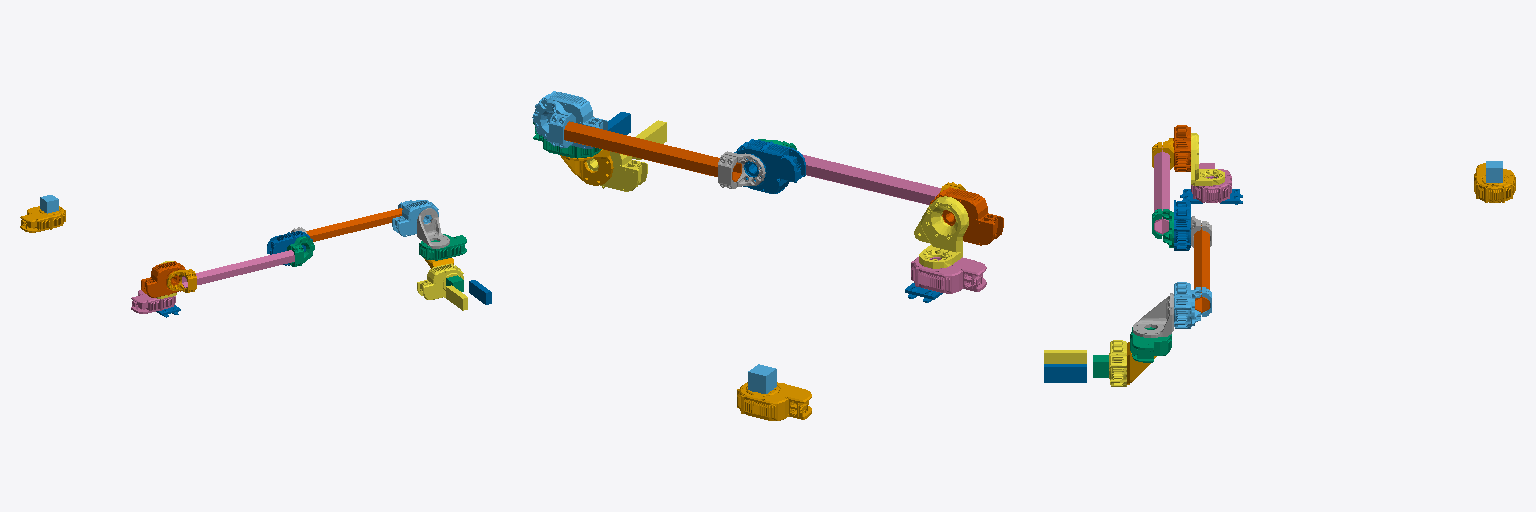
--- Render facts (derived) ---
Views: 3 orthographic renders of the robot side by side, from view 1: azimuth 30°, elevation 25°; view 2: azimuth 150°, elevation 25°; view 3: azimuth 270°, elevation 25°.
Model HEBI_6_DOF_Arm_1 with 23 links and 22 joints (9 revolute, 13 fixed), rooted at world, posed every joint at zero.
Visible links, largest first — view 1: tubepar_3Z, tubepar_2Z, hebi_x5_9_16Z, hebi_x5_1_9Z, hebi_x5_1_8Z, hebi_x9_spool, pm-2132-01_5Z, hebi_x5_1_10Z, hebi_x5_9_15Z, hebi_x5_4_14Z; view 2: tubepar_2Z, a_2040_01r_12Z, tubepar_3Z, hebi_x5_4_14Z, hebi_x9_spool, hebi_x5_9_15Z, hebi_x5_9_16Z, hebi_x5_1_9Z, a_2039_02_1Z, hebi_x5_1_8Z, a_2038_02_11Z, pm-2132-01_4Z (+2 smaller); view 3: pm-2132-01_5Z, tubepar_2Z, tubepar_3Z, hebi_x9_spool, hebi_x5_1_10Z, hebi_x5_9_15Z, hebi_x5_4_14Z, right_finger, hebi_x5_1_9Z, a_2040_01r_12Z, hebi_x5_9_16Z, hebi_x5_1_8Z (+1 smaller).
Link boxes in pixels (x1,y1,x2,y2): tubepar_3Z: [182, 250, 294, 287]; tubepar_2Z: [306, 208, 402, 241]; hebi_x5_9_16Z: [141, 261, 185, 297]; hebi_x5_1_9Z: [417, 263, 463, 299]; hebi_x5_1_8Z: [392, 200, 438, 236]; hebi_x9_spool: [20, 206, 65, 232]; pm-2132-01_5Z: [417, 208, 449, 248]; hebi_x5_1_10Z: [419, 234, 466, 260]; hebi_x5_9_15Z: [131, 290, 175, 313]; hebi_x5_4_14Z: [267, 231, 312, 265]; tubepar_2Z: [564, 121, 741, 181]; a_2040_01r_12Z: [914, 196, 968, 268]; tubepar_3Z: [802, 154, 940, 204]; hebi_x5_4_14Z: [734, 139, 805, 193]; hebi_x9_spool: [737, 382, 811, 420]; hebi_x5_9_15Z: [911, 257, 986, 293]; hebi_x5_9_16Z: [930, 187, 1003, 245]; hebi_x5_1_9Z: [586, 151, 647, 191]; a_2039_02_1Z: [532, 100, 575, 148]; hebi_x5_1_8Z: [535, 91, 607, 148]; a_2038_02_11Z: [718, 151, 765, 188]; pm-2132-01_4Z: [560, 149, 613, 185]; pm-2132-01_5Z: [1133, 293, 1173, 337]; tubepar_2Z: [1194, 225, 1209, 312]; tubepar_3Z: [1154, 147, 1169, 234]; hebi_x9_spool: [1474, 163, 1515, 202]; hebi_x5_1_10Z: [1130, 327, 1171, 362]; hebi_x5_9_15Z: [1191, 163, 1231, 202]; hebi_x5_4_14Z: [1174, 200, 1190, 250]; right_finger: [1044, 364, 1086, 382]; hebi_x5_1_9Z: [1109, 340, 1126, 386]; a_2040_01r_12Z: [1191, 133, 1224, 185]; hebi_x5_9_16Z: [1173, 125, 1190, 171]; hebi_x5_1_8Z: [1174, 282, 1190, 328].
Bounding box of the posed robot: 0.8013 × 0.832 × 0.186 m (x, y, z).
17 mesh visuals loaded from 16 distinct referenced files (16 binary STL).

robot.urdf — HEBI_6_DOF_Arm_1:
<?xml version="1.0" ?>
<robot name="HEBI_6_DOF_Arm_1">
  <!--Joints-->
  <joint name="world_to_base_link" type="fixed">
    <parent link="world"/>
    <child link="base_link"/>
  </joint>
  <joint name="base_link_to_a_2043_01_13Z" type="fixed">
    <parent link="base_link"/>
    <child link="a_2043_01_13Z"/>
  </joint>
  <joint name="a_2043_01_13Z_to_hebi_x5_9_15Z" type="fixed">
    <parent link="a_2043_01_13Z"/>
    <child link="hebi_x5_9_15Z"/>
    <origin rpy="0.0 0.0 0.0" xyz="8.71763536758e-24 1.61232339957e-23 1e-23"/>
  </joint>
  <joint name="ARM/Base/X5_9" type="revolute">
    <parent link="hebi_x5_9_15Z"/>
    <child link="a_2040_01r_12Z"/>
    <axis xyz="-2.77554010017e-17 -1.73472348e-16 1.0"/>
    <dynamics damping="0.5" friction="0.06"/>
    <limit effort="100" lower="-2" upper="+2" velocity="100"/>
    <origin rpy="0.0 -3.34767643574e-17 -3.14159265359" xyz="-5.55318730462e-17 -2.96636102637e-18 0.03"/>
  </joint>
  <gazebo reference="ARM/Base/X5_9">
    <implicitSpringDamper>True</implicitSpringDamper>
  </gazebo>
  <joint name="a_2040_01r_12Z_to_hebi_x5_9_16Z" type="fixed">
    <parent link="a_2040_01r_12Z"/>
    <child link="hebi_x5_9_16Z"/>
    <origin rpy="1.57079632679 -0.0 -3.14159265359" xyz="-5.38184507892e-17 0.03750000003 0.055"/>
  </joint>
  <joint name="ARM/Shoulder/X5_9" type="revolute">
    <parent link="hebi_x5_9_16Z"/>
    <child link="a_2038_02_6Z"/>
    <axis xyz="-2.77554010017e-17 -1.66533454e-16 1.0"/>
    <dynamics damping="0.5" friction="0.06"/>
    <limit effort="100" lower="0" upper="+1.1" velocity="100"/>
    <origin rpy="0.0 -2.77555756e-17 0.0" xyz="-5.63687556453e-17 2.34257058104e-17 0.03"/>
  </joint>
  <gazebo reference="ARM/Shoulder/X5_9">
    <implicitSpringDamper>True</implicitSpringDamper>
  </gazebo>
  <joint name="a_2038_02_6Z_to_tubepar_3Z" type="fixed">
    <parent link="a_2038_02_6Z"/>
    <child link="tubepar_3Z"/>
    <origin rpy="1.57079632679 -1.57079632679 0.0" xyz="0.0135 1.5578633904e-18 0.02"/>
  </joint>
  <joint name="tubepar_3Z_to_a_2039_02_7Z" type="fixed">
    <parent link="tubepar_3Z"/>
    <child link="a_2039_02_7Z"/>
    <origin rpy="1.57079632679 2.50240867501e-14 -1.57079632679" xyz="-1.04532313799e-18 -0.3 -3.11352413402e-18"/>
  </joint>
  <joint name="a_2039_02_7Z_to_hebi_x5_4_14Z" type="fixed">
    <parent link="a_2039_02_7Z"/>
    <child link="hebi_x5_4_14Z"/>
    <origin rpy="1.22464679915e-16 1.04083409e-17 2.50240867501e-14" xyz="0.014 3.32344199835e-16 0.02"/>
  </joint>
  <joint name="ARM/Elbow/X5_4" type="revolute">
    <parent link="hebi_x5_4_14Z"/>
    <child link="a_2038_02_11Z"/>
    <axis xyz="3.34767643574e-17 -1.5959456e-16 1.0"/>
    <dynamics damping="0.5" friction="0.06"/>
    <limit effort="100" lower="-2.5" upper="+2.5" velocity="100"/>
    <origin rpy="0.0 -2.77555756e-17 -1.23259516441e-32" xyz="-5.58391159301e-17 -4.7878368e-18 0.03"/>
  </joint>
  <gazebo reference="ARM/Elbow/X5_4">
    <implicitSpringDamper>True</implicitSpringDamper>
  </gazebo>
  <joint name="a_2038_02_11Z_to_tubepar_2Z" type="fixed">
    <parent link="a_2038_02_11Z"/>
    <child link="tubepar_2Z"/>
    <origin rpy="1.57079632679 -1.57079632679 0.0" xyz="0.0135 -1.1415297504e-18 0.02"/>
  </joint>
  <joint name="tubepar_2Z_to_a_2039_02_1Z" type="fixed">
    <parent link="tubepar_2Z"/>
    <child link="a_2039_02_1Z"/>
    <origin rpy="1.57079632679 2.50240867501e-14 -1.57079632679" xyz="2.94658008559e-18 -0.3 -1.10973305812e-17"/>
  </joint>
  <joint name="a_2039_02_1Z_to_hebi_x5_1_8Z" type="fixed">
    <parent link="a_2039_02_1Z"/>
    <child link="hebi_x5_1_8Z"/>
    <origin rpy="1.22464679915e-16 1.04083409e-17 2.50240867501e-14" xyz="0.014 3.35287488301e-16 0.02"/>
  </joint>
  <joint name="ARM/Wrist_1/X5_1" type="revolute">
    <parent link="hebi_x5_1_8Z"/>
    <child link="pm-2132-01_5Z"/>
    <axis xyz="-7.16406808574e-17 -1.5959456e-16 1.0"/>
    <dynamics damping="0.5" friction="0.06"/>
    <limit effort="100" lower="-2" upper="+4.5" velocity="100"/>
    <origin rpy="1.11022302e-15 1.58288319444e-15 -1.33566834996e-15" xyz="-2.14922042572e-18 -4.7878368e-18 0.03"/>
  </joint>
  <gazebo reference="ARM/Wrist_1/X5_1">
    <implicitSpringDamper>True</implicitSpringDamper>
  </gazebo>
  <joint name="pm-2132-01_5Z_to_hebi_x5_1_10Z" type="fixed">
    <parent link="pm-2132-01_5Z"/>
    <child link="hebi_x5_1_10Z"/>
    <origin rpy="-1.57079632679 1.61063877004e-15 -3.14159265359" xyz="-4.2271658196e-18 -0.043 0.04"/>
  </joint>
  <joint name="ARM/Wrist_2/X5_1" type="revolute">
    <parent link="hebi_x5_1_10Z"/>
    <child link="pm-2132-01_4Z"/>
    <axis xyz="-1.15525786115e-16 -1.73472348e-16 1.0"/>
    <dynamics damping="0.5" friction="0.06"/>
    <limit effort="100" lower="-2" upper="+5" velocity="100"/>
    <origin rpy="1.11022302e-15 1.58288319444e-15 -1.33566834996e-15" xyz="-3.46577358344e-18 -6.20475893008e-17 0.03"/>
  </joint>
  <gazebo reference="ARM/Wrist_2/X5_1">
    <implicitSpringDamper>True</implicitSpringDamper>
  </gazebo>
  <joint name="pm-2132-01_4Z_to_hebi_x5_1_9Z" type="fixed">
    <parent link="pm-2132-01_4Z"/>
    <child link="hebi_x5_1_9Z"/>
    <origin rpy="-1.57079632679 1.61063877004e-15 -3.14159265359" xyz="-8.61556064806e-18 -0.043 0.04"/>
  </joint>


  <joint name="base_link_to_hebi_x9_spool" type="fixed">
    <parent link="base_link"/>
    <child link="hebi_x9_spool"/>
    <origin rpy="0.0 0.0 0.0" xyz="0 0.5 0"/>
  </joint>
  <joint name="GRIPPER/Spool/X5_9" type="revolute">
    <parent link="hebi_x9_spool"/>
    <child link="spool"/>
    <axis xyz="-1.15525786115e-16 -1.73472348e-16 1.0"/>
    <dynamics damping="0.5" friction="0.06"/>
    <limit effort="30" lower="-1" upper="+1" velocity="90"/>
    <origin rpy="0 0 0" xyz="0 0 0.03"/>
  </joint>
  <gazebo reference="GRIPPER/Spool/X5_9">
    <implicitSpringDamper>True</implicitSpringDamper>
  </gazebo>

  <gazebo reference="GRIPPER/Spool/X5_9">
    <sensor name="gripper_force_torque" type="force_torque">
      <always_on>true</always_on>
      <update_rate>100.0</update_rate>
      <visualize>true</visualize>
      <force_torque>
        <frame>sensor</frame>
        <measure_direction>parent_to_child</measure_direction>
      </force_torque>
    </sensor>
  </gazebo>

  <link name="hebi_x9_spool">
    <visual>
      <origin rpy="0 0 0" xyz="-5.55318730462e-17 -2.49799181e-18 0.015"/>
      <geometry>
        <mesh filename="package://hebi_6_dof_arm_generated_urdf/meshes/hebi_x5_9_15z_prt.stl" scale="0.001 0.001 0.001"/>
      </geometry>
    </visual>
    <collision>
      <origin rpy="0 0 0" xyz="-5.55318730462e-17 -2.49799181e-18 0.015"/>
      <geometry>
        <mesh filename="package://hebi_6_dof_arm_generated_urdf/meshes/hebi_x5_9_15z_prt.stl" scale="0.001 0.001 0.001"/>
      </geometry>
    </collision>
    <inertial>
      <origin rpy="0 0 0" xyz="-0.0142019322139 -0.00151173442654 0.0150064707722"/>
      <mass value="0.3601223934133934"/>
      <inertia ixx="0.000149654657264" ixy="-2.029262623e-05" ixz="1.36324075072e-08" iyy="0.000259599603648" iyz="1.37817063293e-07" izz="0.000355190384437"/>
    </inertial>
  </link>
  <gazebo reference="hebi_x9_spool">
    <selfCollide>True</selfCollide>
    <material>Gazebo/Red</material>
    <mu1>0.1</mu1>
    <mu2>0.1</mu2>
    <kp>100000000</kp>
    <kd>1</kd>
    <minDepth>0.0005</minDepth>
    <maxVel>100</maxVel>
  </gazebo>
  <link name="spool">
    <visual>
      <origin rpy="0 0 0" xyz="0 0 0.015"/>
      <geometry>
        <box size ="0.03 0.03 0.03" />
      </geometry>
    </visual>
    <collision>
      <origin rpy="0 0 0" xyz="0 0 0.015"/>
      <geometry>
        <box size ="0.03 0.03 0.03" />
      </geometry>
    </collision>
    <inertial>
      <origin rpy="0 0 0" xyz="0 0 0.015"/>
      <mass value="0.2"/>
      <inertia ixx="3e-05" iyy="3e-05" izz="3e-05" ixy="0" ixz="0" iyz="0"/>
    </inertial>
  </link>
  <gazebo reference="spool">
    <selfCollide>False</selfCollide>
    <material>Gazebo/Grey</material>
    <mu1>0</mu1>
    <mu2>0</mu2>
    <kp>100000000</kp>
    <kd>1</kd>
    <minDepth>0.0005</minDepth>
    <maxVel>100</maxVel>
  </gazebo>

  <joint name="ARM/Wrist_3/X5_1" type="revolute">
    <parent link="hebi_x5_1_9Z"/>
    <child link="gripper_base"/>
    <axis xyz="-1.15525786115e-16 -1.73472348e-16 1.0"/>
    <dynamics damping="0.5" friction="0.06"/>
    <limit effort="100" lower="-5" upper="+5" velocity="100"/>
    <origin rpy="0 0 0" xyz="0 0 0.03"/>
  </joint>
  <gazebo reference="ARM/Wrist_3/X5_1">
    <implicitSpringDamper>True</implicitSpringDamper>
  </gazebo>
  <joint name="gripper_base_to_left_finger" type="revolute">
    <parent link="gripper_base"/>
    <child link="left_finger"/>
    <axis xyz="0 1.0 0"/>
    <dynamics damping="0.5" friction="0.06"/>
    <limit effort="20" lower="0" upper="+0.5" velocity="20"/>
    <origin rpy="0 0 0" xyz="-0.03 0 0.04"/>
  </joint>
  <gazebo reference="gripper_base_to_left_finger">
    <implicitSpringDamper>True</implicitSpringDamper>
  </gazebo>
  <joint name="gripper_base_to_right_finger" type="revolute">
    <parent link="gripper_base"/>
    <child link="right_finger"/>
    <axis xyz="0 1.0 0"/>
    <dynamics damping="0.5" friction="0.06"/>
    <limit effort="20" lower="0" upper="+0.5" velocity="20"/>
    <origin rpy="0 0 3.14159" xyz="0.03 0 0.04"/>
  </joint>
  <gazebo reference="gripper_base_to_right_finger">
    <implicitSpringDamper>True</implicitSpringDamper>
  </gazebo>

  <gazebo>
    <plugin name="left_finger" filename="libtransmission_gazebo_plugin.so">
      <jointA>GRIPPER/Spool/X5_9</jointA>
      <jointB>gripper_base_to_left_finger</jointB>
      <forwardMechanicalReduction>0.5</forwardMechanicalReduction>
      <backwardMechanicalReduction>0.0</backwardMechanicalReduction>
    </plugin>
  </gazebo>

  <gazebo>
    <plugin name="right_finger" filename="libtransmission_gazebo_plugin.so">
      <jointA>GRIPPER/Spool/X5_9</jointA>
      <jointB>gripper_base_to_right_finger</jointB>
      <forwardMechanicalReduction>0.5</forwardMechanicalReduction>
      <backwardMechanicalReduction>0.0</backwardMechanicalReduction>
    </plugin>
  </gazebo>

  <link name="gripper_base">
    <visual>
      <origin rpy="0 0 0" xyz="0 0 0.015"/>
      <geometry>
        <box size ="0.03 0.03 0.03" />
      </geometry>
    </visual>
    <collision>
      <origin rpy="0 0 0" xyz="0 0 0.015"/>
      <geometry>
        <box size ="0.03 0.03 0.03" />
      </geometry>
    </collision>
    <inertial>
      <origin rpy="0 0 0" xyz="0 0 0.015"/>
      <mass value="0.2"/>
      <inertia ixx="3e-05" iyy="3e-05" izz="3e-05" ixy="0" ixz="0" iyz="0"/>
    </inertial>
  </link>
  <gazebo reference="gripper_base">
    <selfCollide>True</selfCollide>
    <material>Gazebo/Grey</material>
    <mu1>0.1</mu1>
    <mu2>0.1</mu2>
    <kp>10000000</kp>
    <kd>1</kd>
    <minDepth>0.0005</minDepth>
    <maxVel>100</maxVel>
  </gazebo>
  <link name="left_finger">
    <visual>
      <origin rpy="0 0 0" xyz="0 0 0.0375"/>
      <geometry>
        <box size ="0.015 0.03 0.075" />
      </geometry>
    </visual>
    <collision>
      <origin rpy="0 0 0" xyz="0 0 0.0375"/>
      <geometry>
        <box size ="0.015 0.03 0.075" />
      </geometry>
    </collision>
    <inertial>
      <origin rpy="0 0 0" xyz="0 0 0.0375"/>
      <mass value="0.1"/>
      <inertia ixx="5.437e-05" iyy="4.875e-05" izz="9.37e-06" ixy="0" ixz="0" iyz="0"/>
    </inertial>
  </link>
  <gazebo reference="left_finger">
    <selfCollide>True</selfCollide>
    <material>Gazebo/Grey</material>
    <mu1>0.6</mu1>
    <mu2>0.6</mu2>
    <kp>10000000</kp>
    <kd>1</kd>
    <minDepth>0.001</minDepth>
    <maxVel>100</maxVel>
  </gazebo>
  <link name="right_finger">
    <visual>
      <origin rpy="0 0 0" xyz="0 0 0.0375"/>
      <geometry>
        <box size ="0.015 0.03 0.075" />
      </geometry>
    </visual>
    <collision>
      <origin rpy="0 0 0" xyz="0 0 0.0375"/>
      <geometry>
        <box size ="0.015 0.03 0.075" />
      </geometry>
    </collision>
    <inertial>
      <origin rpy="0 0 0" xyz="0 0 0.0375"/>
      <mass value="0.1"/>
      <inertia ixx="5.437e-05" iyy="4.875e-05" izz="9.37e-06" ixy="0" ixz="0" iyz="0"/>
    </inertial>
  </link>
  <gazebo reference="right_finger">
    <selfCollide>True</selfCollide>
    <material>Gazebo/Grey</material>
    <mu1>0.6</mu1>
    <mu2>0.6</mu2>
    <kp>10000000</kp>
    <kd>1</kd>
    <minDepth>0.001</minDepth>
    <maxVel>100</maxVel>
  </gazebo>

  <!--Links-->
  <link name="world"/>
  <link name="base_link">
    <!--Transformation from CyPhy2CAD global reference frame to base_link-->
    <CyPhy2CAD>
      <CADAssembly_metrics>
        <RotationMatrix>
          <Row>
            <Column Value="1.0"/>
            <Column Value="0.0"/>
            <Column Value="0.0"/>
          </Row>
          <Row>
            <Column Value="0.0"/>
            <Column Value="1.0"/>
            <Column Value="0.0"/>
          </Row>
          <Row>
            <Column Value="0.0"/>
            <Column Value="0.0"/>
            <Column Value="1.0"/>
          </Row>
        </RotationMatrix>
        <Translation X="1e-20" Y="1e-20" Z="1e-20"/>
      </CADAssembly_metrics>
    </CyPhy2CAD>
  </link>
  <link name="a_2038_02_11Z">
    <visual>
      <origin rpy="0 0 0" xyz="5.68434188608e-17 -5.97523496792e-33 -3.48065554802e-33"/>
      <geometry>
        <mesh filename="package://hebi_6_dof_arm_generated_urdf/meshes/a_2038_02_11z_prt.stl" scale="0.001 0.001 0.001"/>
      </geometry>
    </visual>
    <collision>
      <origin rpy="0 0 0" xyz="5.68434188608e-17 -5.97523496792e-33 -3.48065554802e-33"/>
      <geometry>
        <mesh filename="package://hebi_6_dof_arm_generated_urdf/meshes/a_2038_02_11z_prt.stl" scale="0.001 0.001 0.001"/>
      </geometry>
    </collision>
    <inertial>
      <origin rpy="0 0 0" xyz="0.0176052907699 -5.97523496792e-33 0.0142788404199"/>
      <mass value="0.059108249978877175"/>
      <inertia ixx="2.3632587043e-05" ixy="0.0" ixz="-3.93131579939e-06" iyy="2.03298829586e-05" iyz="0.0" izz="2.72912531732e-05"/>
    </inertial>
  </link>
  <gazebo reference="a_2038_02_11Z">
    <selfCollide>True</selfCollide>
    <material>Gazebo/Black</material>
    <mu1>0.1</mu1>
    <mu2>0.1</mu2>
    <kp>10000000</kp>
    <kd>1</kd>
    <minDepth>0.0005</minDepth>
    <maxVel>100</maxVel>
  </gazebo>
  <link name="a_2038_02_6Z">
    <visual>
      <origin rpy="0 0 0" xyz="5.34704228727e-17 5.62067424693e-33 2.34655513593e-33"/>
      <geometry>
        <mesh filename="package://hebi_6_dof_arm_generated_urdf/meshes/a_2038_02_6z_prt.stl" scale="0.001 0.001 0.001"/>
      </geometry>
    </visual>
    <collision>
      <origin rpy="0 0 0" xyz="5.34704228727e-17 5.62067424693e-33 2.34655513593e-33"/>
      <geometry>
        <mesh filename="package://hebi_6_dof_arm_generated_urdf/meshes/a_2038_02_6z_prt.stl" scale="0.001 0.001 0.001"/>
      </geometry>
    </collision>
    <inertial>
      <origin rpy="0 0 0" xyz="0.0176052907699 5.62067424693e-33 0.0142788404199"/>
      <mass value="0.059108249978877175"/>
      <inertia ixx="2.3632587043e-05" ixy="0.0" ixz="-3.93131579939e-06" iyy="2.03298829586e-05" iyz="0.0" izz="2.72912531732e-05"/>
    </inertial>
  </link>
  <gazebo reference="a_2038_02_6Z">
    <selfCollide>True</selfCollide>
    <material>Gazebo/Black</material>
    <mu1>0.1</mu1>
    <mu2>0.1</mu2>
    <kp>10000000</kp>
    <kd>1</kd>
    <minDepth>0.0005</minDepth>
    <maxVel>100</maxVel>
  </gazebo>
  <link name="a_2039_02_1Z">
    <visual>
      <origin rpy="0 0 0" xyz="0.014 3.49498343016e-16 0.02"/>
      <geometry>
        <mesh filename="package://hebi_6_dof_arm_generated_urdf/meshes/a_2039_02_1z_prt.stl" scale="0.001 0.001 0.001"/>
      </geometry>
    </visual>
    <collision>
      <origin rpy="0 0 0" xyz="0.014 3.49498343016e-16 0.02"/>
      <geometry>
        <mesh filename="package://hebi_6_dof_arm_generated_urdf/meshes/a_2039_02_1z_prt.stl" scale="0.001 0.001 0.001"/>
      </geometry>
    </collision>
    <inertial>
      <origin rpy="0 0 0" xyz="0.00256411047128 3.49498343016e-16 0.00833404763152"/>
      <mass value="0.08075605008850124"/>
      <inertia ixx="3.54766366127e-05" ixy="0.0" ixz="-8.29679742245e-06" iyy="3.7139980371e-05" iyz="0.0" izz="5.23238184568e-05"/>
    </inertial>
  </link>
  <gazebo reference="a_2039_02_1Z">
    <selfCollide>True</selfCollide>
    <material>Gazebo/Black</material>
    <mu1>0.1</mu1>
    <mu2>0.1</mu2>
    <kp>10000000</kp>
    <kd>1</kd>
    <minDepth>0.0005</minDepth>
    <maxVel>100</maxVel>
  </gazebo>
  <link name="a_2039_02_7Z">
    <visual>
      <origin rpy="0 0 0" xyz="0.014 3.4655505455e-16 0.02"/>
      <geometry>
        <mesh filename="package://hebi_6_dof_arm_generated_urdf/meshes/a_2039_02_7z_prt.stl" scale="0.001 0.001 0.001"/>
      </geometry>
    </visual>
    <collision>
      <origin rpy="0 0 0" xyz="0.014 3.4655505455e-16 0.02"/>
      <geometry>
        <mesh filename="package://hebi_6_dof_arm_generated_urdf/meshes/a_2039_02_7z_prt.stl" scale="0.001 0.001 0.001"/>
      </geometry>
    </collision>
    <inertial>
      <origin rpy="0 0 0" xyz="0.00256411047128 3.4655505455e-16 0.00833404763152"/>
      <mass value="0.08075605008850124"/>
      <inertia ixx="3.54766366127e-05" ixy="0.0" ixz="-8.29679742245e-06" iyy="3.7139980371e-05" iyz="0.0" izz="5.23238184568e-05"/>
    </inertial>
  </link>
  <gazebo reference="a_2039_02_7Z">
    <selfCollide>True</selfCollide>
    <material>Gazebo/Black</material>
    <mu1>0.1</mu1>
    <mu2>0.1</mu2>
    <kp>10000000</kp>
    <kd>1</kd>
    <minDepth>0.0005</minDepth>
    <maxVel>100</maxVel>
  </gazebo>
  <link name="a_2040_01r_12Z">
    <visual>
      <origin rpy="0 0 0" xyz="0.00144337567 0.0366111248 -0.0110127649"/>
      <geometry>
        <mesh filename="package://hebi_6_dof_arm_generated_urdf/meshes/a_2040_01r_12z_prt.stl" scale="0.001 0.001 0.001"/>
      </geometry>
    </visual>
    <collision>
      <origin rpy="0 0 0" xyz="0.00144337567 0.0366111248 -0.0110127649"/>
      <geometry>
        <mesh filename="package://hebi_6_dof_arm_generated_urdf/meshes/a_2040_01r_12z_prt.stl" scale="0.001 0.001 0.001"/>
      </geometry>
    </collision>
    <inertial>
      <origin rpy="0 0 0" xyz="-0.0048895444636 0.025165657448 0.0321043733508"/>
      <mass value="0.20946134593484614"/>
      <inertia ixx="0.000172350274153" ixy="6.95173997536e-06" ixz="-1.73640622883e-06" iyy="0.000214786314285" iyz="-3.45081093975e-05" izz="0.000121134255458"/>
    </inertial>
  </link>
  <gazebo reference="a_2040_01r_12Z">
    <selfCollide>True</selfCollide>
    <material>Gazebo/Black</material>
    <mu1>0.1</mu1>
    <mu2>0.1</mu2>
    <kp>10000000</kp>
    <kd>1</kd>
    <minDepth>0.0005</minDepth>
    <maxVel>100</maxVel>
  </gazebo>
  <link name="a_2043_01_13Z">
    <visual>
      <origin rpy="0 0 0" xyz="1e-23 1e-23 1e-23"/>
      <geometry>
        <mesh filename="package://hebi_6_dof_arm_generated_urdf/meshes/a_2043_01_13z_prt.stl" scale="0.001 0.001 0.001"/>
      </geometry>
    </visual>
    <collision>
      <origin rpy="0 0 0" xyz="1e-23 1e-23 1e-23"/>
      <geometry>
        <mesh filename="package://hebi_6_dof_arm_generated_urdf/meshes/a_2043_01_13z_prt.stl" scale="0.001 0.001 0.001"/>
      </geometry>
    </collision>
    <inertial>
      <origin rpy="0 0 0" xyz="-0.00139419949295 1e-23 -0.00293190489101"/>
      <mass value="0.06272938391183215"/>
      <inertia ixx="7.22571415296e-05" ixy="2.96268938113e-10" ixz="5.68510520871e-08" iyy="1.34631068457e-05" iyz="0.0" izz="8.48613385518e-05"/>
    </inertial>
  </link>
  <gazebo reference="a_2043_01_13Z">
    <selfCollide>True</selfCollide>
    <material>Gazebo/Black</material>
    <mu1>0.1</mu1>
    <mu2>0.1</mu2>
    <kp>10000000</kp>
    <kd>1</kd>
    <minDepth>0.0005</minDepth>
    <maxVel>100</maxVel>
  </gazebo>
  <link name="tubepar_2Z">
    <visual>
      <origin rpy="0 0 0" xyz="2.94658008559e-18 -0.3 -1.10973305812e-17"/>
      <geometry>
        <mesh filename="package://hebi_6_dof_arm_generated_urdf/meshes/tubepar_2z_prt.stl" scale="0.001 0.001 0.001"/>
      </geometry>
    </visual>
    <collision>
      <origin rpy="0 0 0" xyz="2.94658008559e-18 -0.3 -1.10973305812e-17"/>
      <geometry>
        <mesh filename="package://hebi_6_dof_arm_generated_urdf/meshes/tubepar_2z_prt.stl" scale="0.001 0.001 0.001"/>
      </geometry>
    </collision>
    <inertial>
      <origin rpy="0 0 0" xyz="2.94658008559e-18 -0.15 -1.10973305812e-17"/>
      <mass value="0.12133427279164029"/>
      <inertia ixx="0.000923727684155" ixy="0.0" ixz="0.0" iyy="2.74413054377e-05" iyz="0.0" izz="0.000923727713157"/>
    </inertial>
  </link>
  <gazebo reference="tubepar_2Z">
    <selfCollide>True</selfCollide>
    <material>Gazebo/Grey</material>
    <mu1>0.05</mu1>
    <mu2>0.05</mu2>
    <kp>10000000</kp>
    <kd>1</kd>
    <minDepth>0.0005</minDepth>
    <maxVel>100</maxVel>
  </gazebo>
  <link name="tubepar_3Z">
    <visual>
      <origin rpy="0 0 0" xyz="-1.04532313799e-18 -0.3 -3.11352413402e-18"/>
      <geometry>
        <mesh filename="package://hebi_6_dof_arm_generated_urdf/meshes/tubepar_3z_prt.stl" scale="0.001 0.001 0.001"/>
      </geometry>
    </visual>
    <collision>
      <origin rpy="0 0 0" xyz="-1.04532313799e-18 -0.3 -3.11352413402e-18"/>
      <geometry>
        <mesh filename="package://hebi_6_dof_arm_generated_urdf/meshes/tubepar_3z_prt.stl" scale="0.001 0.001 0.001"/>
      </geometry>
    </collision>
    <inertial>
      <origin rpy="0 0 0" xyz="-1.04532313799e-18 -0.15 -3.11352413402e-18"/>
      <mass value="0.12133427279164029"/>
      <inertia ixx="0.000923727684155" ixy="0.0" ixz="0.0" iyy="2.74413054377e-05" iyz="0.0" izz="0.000923727713157"/>
    </inertial>
  </link>
  <gazebo reference="tubepar_3Z">
    <selfCollide>True</selfCollide>
    <material>Gazebo/Grey</material>
    <mu1>0.05</mu1>
    <mu2>0.05</mu2>
    <kp>10000000</kp>
    <kd>1</kd>
    <minDepth>0.0005</minDepth>
    <maxVel>100</maxVel>
  </gazebo>
  <link name="pm-2132-01_5Z">
    <visual>
      <origin rpy="0 0 0" xyz="0.0 0.0 0.0"/>
      <geometry>
        <mesh filename="package://hebi_6_dof_arm_generated_urdf/meshes/pm-2132-01_5z_prt.stl" scale="0.001 0.001 0.001"/>
      </geometry>
    </visual>
    <collision>
      <origin rpy="0 0 0" xyz="0.0 0.0 0.0"/>
      <geometry>
        <mesh filename="package://hebi_6_dof_arm_generated_urdf/meshes/pm-2132-01_5z_prt.stl" scale="0.001 0.001 0.001"/>
      </geometry>
    </collision>
    <inertial>
      <origin rpy="0 0 0" xyz="-0.00279899640977 -0.0249156289308 0.0217621079736"/>
      <mass value="0.00011123944034828993"/>
      <inertia ixx="8.27045310277e-08" ixy="3.91246560309e-09" ixz="1.30533871091e-09" iyy="8.43993472647e-08" iyz="2.34003348491e-08" izz="7.43473287776e-08"/>
    </inertial>
  </link>
  <gazebo reference="pm-2132-01_5Z">
    <selfCollide>True</selfCollide>
    <material>Gazebo/Grey</material>
    <mu1>0.1</mu1>
    <mu2>0.1</mu2>
    <kp>10000000</kp>
    <kd>1</kd>
    <minDepth>0.0005</minDepth>
    <maxVel>100</maxVel>
  </gazebo>
  <link name="pm-2132-01_4Z">
    <visual>
      <origin rpy="0 0 0" xyz="0.0 0.0 0.0"/>
      <geometry>
        <mesh filename="package://hebi_6_dof_arm_generated_urdf/meshes/pm-2132-01_4z_prt.stl" scale="0.001 0.001 0.001"/>
      </geometry>
    </visual>
    <collision>
      <origin rpy="0 0 0" xyz="0.0 0.0 0.0"/>
      <geometry>
        <mesh filename="package://hebi_6_dof_arm_generated_urdf/meshes/pm-2132-01_4z_prt.stl" scale="0.001 0.001 0.001"/>
      </geometry>
    </collision>
    <inertial>
      <origin rpy="0 0 0" xyz="-0.00279899640977 -0.0249156289308 0.0217621079736"/>
      <mass value="0.00011123944034828993"/>
      <inertia ixx="8.27045310277e-08" ixy="3.91246560309e-09" ixz="1.30533871091e-09" iyy="8.43993472647e-08" iyz="2.34003348491e-08" izz="7.43473287776e-08"/>
    </inertial>
  </link>
  <gazebo reference="pm-2132-01_4Z">
    <selfCollide>True</selfCollide>
    <material>Gazebo/Grey</material>
    <mu1>0.1</mu1>
    <mu2>0.1</mu2>
    <kp>10000000</kp>
    <kd>1</kd>
    <minDepth>0.0005</minDepth>
    <maxVel>100</maxVel>
  </gazebo>
  <link name="hebi_x5_1_8Z">
    <visual>
      <origin rpy="0 0 0" xyz="-1.07461021286e-18 -2.3939184e-18 0.015"/>
      <geometry>
        <mesh filename="package://hebi_6_dof_arm_generated_urdf/meshes/hebi_x5_1_8z_prt.stl" scale="0.001 0.001 0.001"/>
      </geometry>
    </visual>
    <collision>
      <origin rpy="0 0 0" xyz="-1.07461021286e-18 -2.3939184e-18 0.015"/>
      <geometry>
        <mesh filename="package://hebi_6_dof_arm_generated_urdf/meshes/hebi_x5_1_8z_prt.stl" scale="0.001 0.001 0.001"/>
      </geometry>
    </collision>
    <inertial>
      <origin rpy="0 0 0" xyz="-0.0142019322139 -0.00151173442654 0.0150064707722"/>
      <mass value="0.31314990731599424"/>
      <inertia ixx="0.000130134484577" ixy="-1.76457619391e-05" ixz="1.18542673976e-08" iyy="0.00022573878578" iyz="1.19840924602e-07" izz="0.000308861203858"/>
    </inertial>
  </link>
  <gazebo reference="hebi_x5_1_8Z">
    <selfCollide>True</selfCollide>
    <material>Gazebo/Red</material>
    <mu1>0.1</mu1>
    <mu2>0.1</mu2>
    <kp>10000000</kp>
    <kd>1</kd>
    <minDepth>0.001</minDepth>
    <maxVel>100</maxVel>
    <sensor name="ARM/Wrist_1/imu_sensor" type="imu">
      <always_on>true</always_on>
      <update_rate>100</update_rate>
      <visualize>true</visualize>
      <plugin filename="libgazebo_ros_imu_sensor.so" name="imu_plugin">
        <topicName>/hebiros_gazebo_plugin/imu/ARM/Wrist_1</topicName>
        <bodyName>ARM/Wrist_1/imu_link</bodyName>
        <updateRateHZ>10.0</updateRateHZ>
        <gaussianNoise>0.0</gaussianNoise>
        <xyzOffset>0.025 0 0.003</xyzOffset>
        <rpyOffset>0 0 0</rpyOffset>
        <frameName>ARM/Wrist_1/imu_link</frameName>
      </plugin>
      <pose>0 0 0 0 0 0</pose>
    </sensor>
  </gazebo>
  <link name="hebi_x5_1_10Z">
    <visual>
      <origin rpy="0 0 0" xyz="-1.73288679172e-18 -5.94455040808e-17 0.015"/>
      <geometry>
        <mesh filename="package://hebi_6_dof_arm_generated_urdf/meshes/hebi_x5_1_10z_prt.stl" scale="0.001 0.001 0.001"/>
      </geometry>
    </visual>
    <collision>
      <origin rpy="0 0 0" xyz="-1.73288679172e-18 -5.94455040808e-17 0.015"/>
      <geometry>
        <mesh filename="package://hebi_6_dof_arm_generated_urdf/meshes/hebi_x5_1_10z_prt.stl" scale="0.001 0.001 0.001"/>
      </geometry>
    </collision>
    <inertial>
      <origin rpy="0 0 0" xyz="-0.0142019322139 -0.00151173442654 0.0150064707722"/>
      <mass value="0.31314990731599424"/>
      <inertia ixx="0.000130134484577" ixy="-1.76457619391e-05" ixz="1.18542673976e-08" iyy="0.00022573878578" iyz="1.19840924602e-07" izz="0.000308861203858"/>
    </inertial>
  </link>
  <gazebo reference="hebi_x5_1_10Z">
    <selfCollide>True</selfCollide>
    <material>Gazebo/Red</material>
    <mu1>0.1</mu1>
    <mu2>0.1</mu2>
    <kp>10000000</kp>
    <kd>1</kd>
    <minDepth>0.001</minDepth>
    <maxVel>100</maxVel>
    <sensor name="ARM/Wrist_2/imu_sensor" type="imu">
      <always_on>true</always_on>
      <update_rate>100</update_rate>
      <visualize>true</visualize>
      <plugin filename="libgazebo_ros_imu_sensor.so" name="imu_plugin">
        <topicName>/hebiros_gazebo_plugin/imu/ARM/Wrist_2</topicName>
        <bodyName>ARM/Wrist_2/imu_link</bodyName>
        <updateRateHZ>10.0</updateRateHZ>
        <gaussianNoise>0.0</gaussianNoise>
        <xyzOffset>0.025 0 0.003</xyzOffset>
        <rpyOffset>0 0 0</rpyOffset>
        <frameName>ARM/Wrist_2/imu_link</frameName>
      </plugin>
      <pose>0 0 0 0 0 0</pose>
    </sensor>
  </gazebo>
  <link name="hebi_x5_1_9Z">
    <visual>
      <origin rpy="0 0 0" xyz="-8.14401692361e-19 -4.49223991356e-17 0.015"/>
      <geometry>
        <mesh filename="package://hebi_6_dof_arm_generated_urdf/meshes/hebi_x5_1_9z_prt.stl" scale="0.001 0.001 0.001"/>
      </geometry>
    </visual>
    <collision>
      <origin rpy="0 0 0" xyz="-8.14401692361e-19 -4.49223991356e-17 0.015"/>
      <geometry>
        <mesh filename="package://hebi_6_dof_arm_generated_urdf/meshes/hebi_x5_1_9z_prt.stl" scale="0.001 0.001 0.001"/>
      </geometry>
    </collision>
    <inertial>
      <origin rpy="0 0 0" xyz="-0.0142019322139 -0.00151173442654 0.0150064707722"/>
      <mass value="0.31314990731599424"/>
      <inertia ixx="0.000130134484577" ixy="-1.76457619391e-05" ixz="1.18542673976e-08" iyy="0.00022573878578" iyz="1.19840924602e-07" izz="0.000308861203858"/>
    </inertial>
  </link>
  <gazebo reference="hebi_x5_1_9Z">
    <selfCollide>True</selfCollide>
    <material>Gazebo/Red</material>
    <mu1>0.1</mu1>
    <mu2>0.1</mu2>
    <kp>10000000</kp>
    <kd>1</kd>
    <minDepth>0.001</minDepth>
    <maxVel>100</maxVel>
    <sensor name="ARM/Wrist_3/imu_sensor" type="imu">
      <always_on>true</always_on>
      <update_rate>100</update_rate>
      <visualize>true</visualize>
      <plugin filename="libgazebo_ros_imu_sensor.so" name="imu_plugin">
        <topicName>/hebiros_gazebo_plugin/imu/ARM/Wrist_3</topicName>
        <bodyName>ARM/Wrist_3/imu_link</bodyName>
        <updateRateHZ>10.0</updateRateHZ>
        <gaussianNoise>0.0</gaussianNoise>
        <xyzOffset>0.025 0 0.003</xyzOffset>
        <rpyOffset>0 0 0</rpyOffset>
        <frameName>ARM/Wrist_3/imu_link</frameName>
      </plugin>
      <pose>0 0 0 0 0 0</pose>
    </sensor>
  </gazebo>
  <link name="hebi_x5_4_14Z">
    <visual>
      <origin rpy="0 0 0" xyz="-5.63412673954e-17 -2.3939184e-18 0.015"/>
      <geometry>
        <mesh filename="package://hebi_6_dof_arm_generated_urdf/meshes/hebi_x5_4_14z_prt.stl" scale="0.001 0.001 0.001"/>
      </geometry>
    </visual>
    <collision>
      <origin rpy="0 0 0" xyz="-5.63412673954e-17 -2.3939184e-18 0.015"/>
      <geometry>
        <mesh filename="package://hebi_6_dof_arm_generated_urdf/meshes/hebi_x5_4_14z_prt.stl" scale="0.001 0.001 0.001"/>
      </geometry>
    </collision>
    <inertial>
      <origin rpy="0 0 0" xyz="-0.0142019322139 -0.00151173442654 0.0150064707722"/>
      <mass value="0.33507040082811385"/>
      <inertia ixx="0.000139243898497" ixy="-1.88809652748e-05" ixz="1.26840661154e-08" iyy="0.000241540500785" iyz="1.28229789324e-07" izz="0.000330481488128"/>
    </inertial>
  </link>
  <gazebo reference="hebi_x5_4_14Z">
    <selfCollide>True</selfCollide>
    <material>Gazebo/Red</material>
    <mu1>0.1</mu1>
    <mu2>0.1</mu2>
    <kp>10000000</kp>
    <kd>1</kd>
    <minDepth>0.001</minDepth>
    <maxVel>100</maxVel>
    <sensor name="ARM/Elbow/imu_sensor" type="imu">
      <always_on>true</always_on>
      <update_rate>100</update_rate>
      <visualize>true</visualize>
      <plugin filename="libgazebo_ros_imu_sensor.so" name="imu_plugin">
        <topicName>/hebiros_gazebo_plugin/imu/ARM/Elbow</topicName>
        <bodyName>ARM/Elbow/imu_link</bodyName>
        <updateRateHZ>10.0</updateRateHZ>
        <gaussianNoise>0.0</gaussianNoise>
        <xyzOffset>0.025 0 0.003</xyzOffset>
        <rpyOffset>0 0 0</rpyOffset>
        <frameName>ARM/Elbow/imu_link</frameName>
      </plugin>
      <pose>0 0 0 0 0 0</pose>
    </sensor>
  </gazebo>
  <link name="hebi_x5_9_16Z">
    <visual>
      <origin rpy="0 0 0" xyz="-5.63687556453e-17 2.59237076204e-17 0.015"/>
      <geometry>
        <mesh filename="package://hebi_6_dof_arm_generated_urdf/meshes/hebi_x5_9_16z_prt.stl" scale="0.001 0.001 0.001"/>
      </geometry>
    </visual>
    <collision>
      <origin rpy="0 0 0" xyz="-5.63687556453e-17 2.59237076204e-17 0.015"/>
      <geometry>
        <mesh filename="package://hebi_6_dof_arm_generated_urdf/meshes/hebi_x5_9_16z_prt.stl" scale="0.001 0.001 0.001"/>
      </geometry>
    </collision>
    <inertial>
      <origin rpy="0 0 0" xyz="-0.0142019322139 -0.00151173442654 0.0150064707722"/>
      <mass value="0.3601223934133934"/>
      <inertia ixx="0.000149654657264" ixy="-2.029262623e-05" ixz="1.36324075072e-08" iyy="0.000259599603648" iyz="1.37817063293e-07" izz="0.000355190384437"/>
    </inertial>
  </link>
  <gazebo reference="hebi_x5_9_16Z">
    <selfCollide>True</selfCollide>
    <material>Gazebo/Red</material>
    <mu1>0.1</mu1>
    <mu2>0.1</mu2>
    <kp>10000000</kp>
    <kd>1</kd>
    <minDepth>0.001</minDepth>
    <maxVel>100</maxVel>
    <sensor name="ARM/Shoulder/imu_sensor" type="imu">
      <always_on>true</always_on>
      <update_rate>100</update_rate>
      <visualize>true</visualize>
      <plugin filename="libgazebo_ros_imu_sensor.so" name="imu_plugin">
        <topicName>/hebiros_gazebo_plugin/imu/ARM/Shoulder</topicName>
        <bodyName>ARM/Shoulder/imu_link</bodyName>
        <updateRateHZ>10.0</updateRateHZ>
        <gaussianNoise>0.0</gaussianNoise>
        <xyzOffset>0.025 0 0.003</xyzOffset>
        <rpyOffset>0 0 0</rpyOffset>
        <frameName>ARM/Shoulder/imu_link</frameName>
      </plugin>
      <pose>0 0 0 0 0 0</pose>
    </sensor>
  </gazebo>
  <link name="hebi_x5_9_15Z">
    <visual>
      <origin rpy="0 0 0" xyz="-5.55318730462e-17 -2.49799181e-18 0.015"/>
      <geometry>
        <mesh filename="package://hebi_6_dof_arm_generated_urdf/meshes/hebi_x5_9_15z_prt.stl" scale="0.001 0.001 0.001"/>
      </geometry>
    </visual>
    <collision>
      <origin rpy="0 0 0" xyz="-5.55318730462e-17 -2.49799181e-18 0.015"/>
      <geometry>
        <mesh filename="package://hebi_6_dof_arm_generated_urdf/meshes/hebi_x5_9_15z_prt.stl" scale="0.001 0.001 0.001"/>
      </geometry>
    </collision>
    <inertial>
      <origin rpy="0 0 0" xyz="-0.0142019322139 -0.00151173442654 0.0150064707722"/>
      <mass value="0.3601223934133934"/>
      <inertia ixx="0.000149654657264" ixy="-2.029262623e-05" ixz="1.36324075072e-08" iyy="0.000259599603648" iyz="1.37817063293e-07" izz="0.000355190384437"/>
    </inertial>
  </link>
  <gazebo reference="hebi_x5_9_15Z">
    <selfCollide>True</selfCollide>
    <material>Gazebo/Red</material>
    <mu1>0.1</mu1>
    <mu2>0.1</mu2>
    <kp>10000000</kp>
    <kd>1</kd>
    <minDepth>0.001</minDepth>
    <maxVel>100</maxVel>
    <sensor name="ARM/Base/imu_sensor" type="imu">
      <always_on>true</always_on>
      <update_rate>100</update_rate>
      <visualize>true</visualize>
      <plugin filename="libgazebo_ros_imu_sensor.so" name="imu_plugin">
        <topicName>/hebiros_gazebo_plugin/imu/ARM/Base</topicName>
        <bodyName>ARM/Base/imu_link</bodyName>
        <updateRateHZ>10.0</updateRateHZ>
        <gaussianNoise>0.0</gaussianNoise>
        <xyzOffset>0.025 0 0.003</xyzOffset>
        <rpyOffset>0 0 0</rpyOffset>
        <frameName>ARM/Base/imu_link</frameName>
      </plugin>
      <pose>0 0 0 0 0 0</pose>
    </sensor>
  </gazebo>
  <!--HEBI-ROS Gazebo Plugin-->
  <gazebo>
    <plugin filename="libhebiros_gazebo_plugin.so" name="hebiros_gazebo_plugin"/>
  </gazebo>
</robot>
